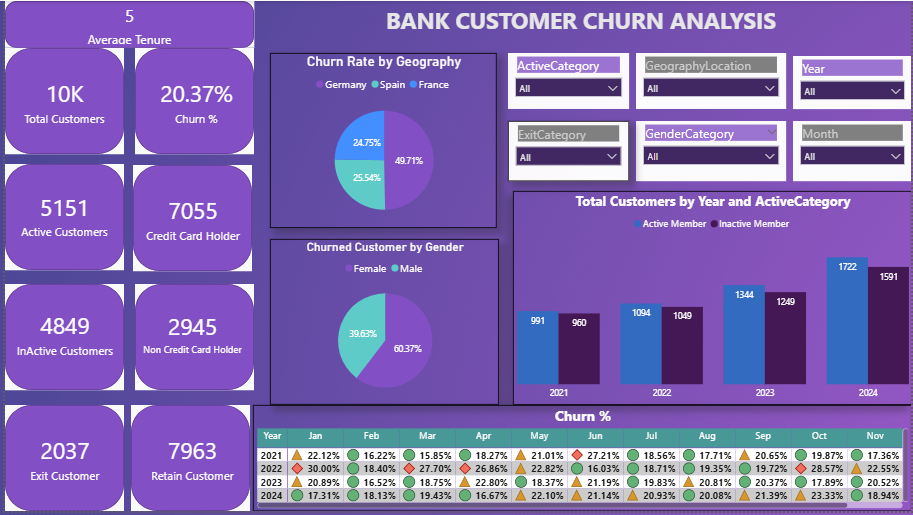

Layout of this report page (visuals, bound fields, positions):
{"tool":"powerbi","page":{"name":"Page 1","canvas":[1280,720],"ordinal":0},"visuals":[{"type":"textbox","box":[9.9,0,1270.6,59.3],"z":0},{"type":"shape","box":[0,229.6,168,149.6],"z":1000},{"type":"shape","box":[0,66.4,168,149.6],"z":2000},{"type":"shape","box":[177.9,570.4,168,149.6],"z":3000},{"type":"shape","box":[0,400,168,149.6],"z":4000},{"type":"shape","box":[180.7,231.5,168,149.6],"z":5000},{"type":"card","fields":{"Values":["Dax calculations.Active Customers"]},"box":[0,242.8,168,117.2],"z":6000},{"type":"card","fields":{"Values":["Dax calculations.InActive Customers"]},"box":[5.6,410.8,158.1,115.8],"z":7000},{"type":"card","fields":{"Values":["Dax calculations.Credit Card Holder"]},"box":[182.1,248.5,166.6,115.8],"z":8000},{"type":"card","fields":{"Values":["Dax calculations.Retain Customer"]},"box":[193.4,587.3,142.6,115.8],"z":9000},{"type":"shape","box":[183.5,399.5,168,149.6],"z":10000},{"type":"shape","box":[0,570.4,168,149.6],"z":11000},{"type":"card","fields":{"Values":["Dax calculations.Total Customers"]},"box":[5.6,83.3,156.7,115.8],"z":12000},{"type":"card","fields":{"Values":["Dax calculations.Non Credit Card Holder"]},"box":[183.5,410.8,162.4,115.8],"z":13000},{"type":"card","fields":{"Values":["Dax calculations.Exit Customer"]},"box":[5.6,587.3,158.1,115.8],"z":14000},{"type":"slicer","fields":{"Values":["Calender Table.Year"]},"box":[1112.5,77.6,168,74.8],"z":15000},{"type":"slicer","fields":{"Values":["Gender.GenderCategory"]},"box":[890.8,169.4,211.8,84.7],"z":16000},{"type":"slicer","fields":{"Values":["Exit Customer.ExitCategory"]},"box":[710.1,169.4,170.8,84.7],"z":17000},{"type":"slicer","fields":{"Values":["ActiveCustomer.ActiveCategory"]},"box":[710.1,73.4,170.8,79.1],"z":18000},{"type":"slicer","fields":{"Values":["Geography.GeographyLocation"]},"box":[890.8,73.4,211.8,79.1],"z":19000},{"type":"slicer","fields":{"Values":["Calender Table.Month"]},"box":[1112.5,169.4,168,84.7],"z":20000},{"type":"clusteredColumnChart","fields":{"Y":["Dax calculations.Total Customers"],"Category":["Calender Table.Year","Calender Table.Month"],"Series":["ActiveCustomer.ActiveCategory"]},"box":[717.2,268.2,563.3,302.1],"z":21000},{"type":"pieChart","title":"Churned Customer by Gender","fields":{"Y":["Dax calculations.Churn %"],"Category":["Gender.GenderCategory"]},"box":[374.1,336,323.3,234.4],"z":22000},{"type":"pivotTable","title":"Churn %","fields":{"Rows":["Calender Table.Year"],"Columns":["Calender Table.Month"],"Values":["Dax calculations.Churn %"]},"box":[350.1,570.4,930.4,149.6],"z":23000},{"type":"shape","box":[183.5,66.4,168,149.6],"z":24000},{"type":"card","fields":{"Values":["Dax calculations.Churn %"]},"box":[192,83.3,156.7,115.8],"z":25000},{"type":"pieChart","title":"Churn Rate by Geography ","fields":{"Y":["Dax calculations.Churn %"],"Category":["Geography.GeographyLocation"]},"box":[374.7,72.9,320.4,247.4],"z":26000},{"type":"shape","box":[0,0,351.5,66.4],"z":27000},{"type":"card","fields":{"Values":["Dax calculations.Avg Tenure"]},"box":[0,0,351.5,66.4],"z":28000}]}

Visuals, with their boxes in screenshot pixels (x1, y1, x2, y2), scaled from the page's 1280x720 canvas onto the 913x515 screenshot:
textbox: {"left": 7, "top": 0, "right": 912, "bottom": 42}
shape: {"left": 0, "top": 164, "right": 120, "bottom": 271}
shape: {"left": 0, "top": 47, "right": 120, "bottom": 154}
shape: {"left": 127, "top": 408, "right": 247, "bottom": 514}
shape: {"left": 0, "top": 286, "right": 120, "bottom": 393}
shape: {"left": 129, "top": 166, "right": 249, "bottom": 273}
card - Dax calculations.Active Customers: {"left": 0, "top": 174, "right": 120, "bottom": 258}
card - Dax calculations.InActive Customers: {"left": 4, "top": 294, "right": 117, "bottom": 377}
card - Dax calculations.Credit Card Holder: {"left": 130, "top": 178, "right": 249, "bottom": 261}
card - Dax calculations.Retain Customer: {"left": 138, "top": 420, "right": 240, "bottom": 503}
shape: {"left": 131, "top": 286, "right": 251, "bottom": 393}
shape: {"left": 0, "top": 408, "right": 120, "bottom": 514}
card - Dax calculations.Total Customers: {"left": 4, "top": 60, "right": 116, "bottom": 142}
card - Dax calculations.Non Credit Card Holder: {"left": 131, "top": 294, "right": 247, "bottom": 377}
card - Dax calculations.Exit Customer: {"left": 4, "top": 420, "right": 117, "bottom": 503}
slicer - Calender Table.Year: {"left": 794, "top": 56, "right": 912, "bottom": 109}
slicer - Gender.GenderCategory: {"left": 635, "top": 121, "right": 786, "bottom": 182}
slicer - Exit Customer.ExitCategory: {"left": 507, "top": 121, "right": 628, "bottom": 182}
slicer - ActiveCustomer.ActiveCategory: {"left": 507, "top": 53, "right": 628, "bottom": 109}
slicer - Geography.GeographyLocation: {"left": 635, "top": 53, "right": 786, "bottom": 109}
slicer - Calender Table.Month: {"left": 794, "top": 121, "right": 912, "bottom": 182}
clusteredColumnChart - Dax calculations.Total Customers x Calender Table.Year: {"left": 512, "top": 192, "right": 912, "bottom": 408}
"Churned Customer by Gender" pieChart: {"left": 267, "top": 240, "right": 497, "bottom": 408}
"Churn %" pivotTable: {"left": 250, "top": 408, "right": 912, "bottom": 514}
shape: {"left": 131, "top": 47, "right": 251, "bottom": 154}
card - Dax calculations.Churn %: {"left": 137, "top": 60, "right": 249, "bottom": 142}
"Churn Rate by Geography " pieChart: {"left": 267, "top": 52, "right": 496, "bottom": 229}
shape: {"left": 0, "top": 0, "right": 251, "bottom": 47}
card - Dax calculations.Avg Tenure: {"left": 0, "top": 0, "right": 251, "bottom": 47}
